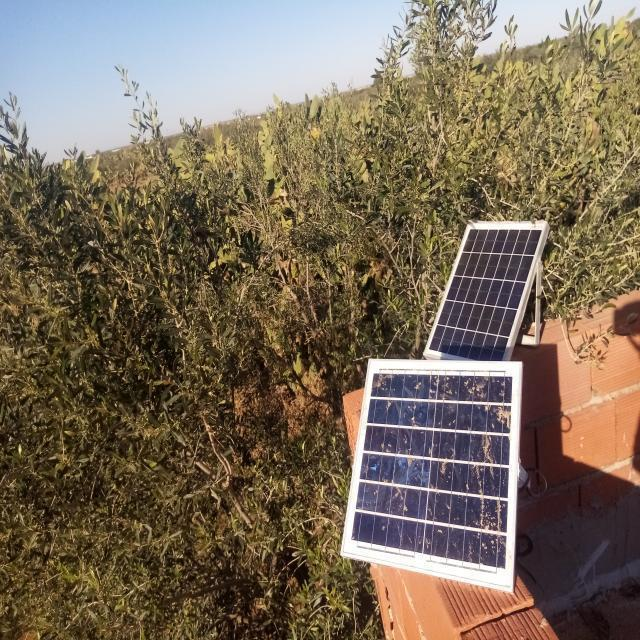Normal Solar Panel: (424, 222, 547, 360)
